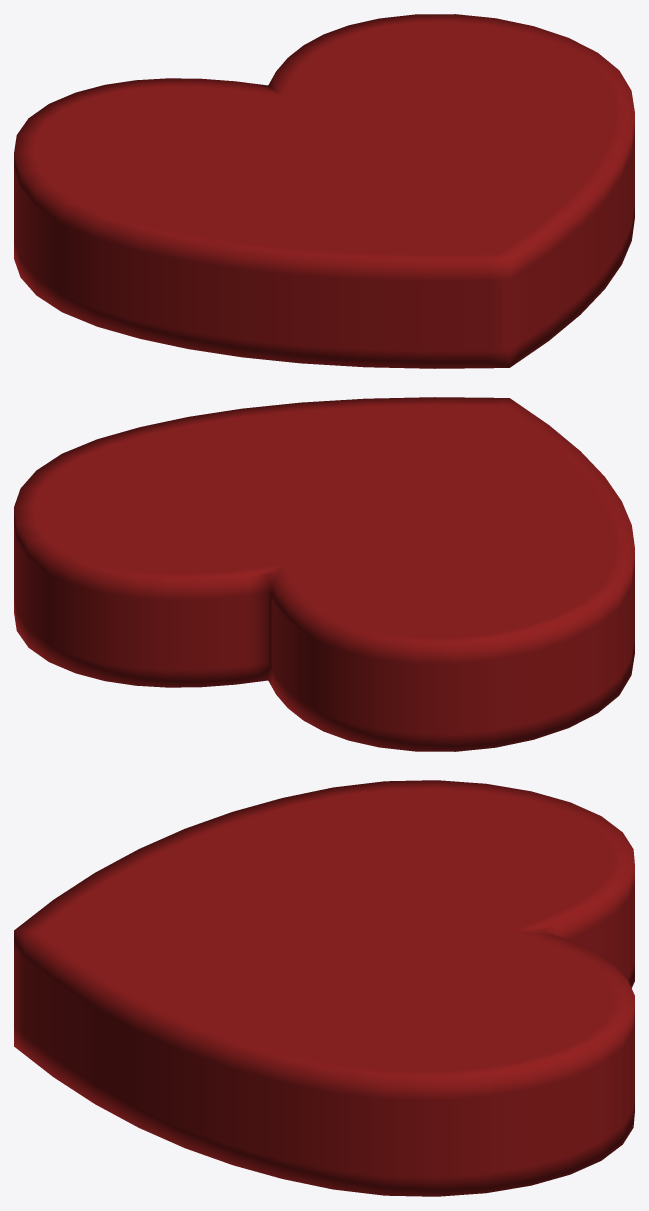
The model's file is HeartIcon.fbx.
The picture shows the model from 3 angles, top to bottom: view 1: azimuth 30°, elevation 25°; view 2: azimuth 150°, elevation 25°; view 3: azimuth 270°, elevation 25°; orthographic projection. The views are drawn at different scales.
Parts seen in each view (by area): view 1: Heart; view 2: Heart; view 3: Heart.
Part boxes in pixels (bbox=[...]): Heart: bbox=[14, 14, 634, 368]; Heart: bbox=[14, 397, 634, 751]; Heart: bbox=[14, 780, 634, 1196].
Bounding box in the file's own units: 111 × 20 × 97.06.
